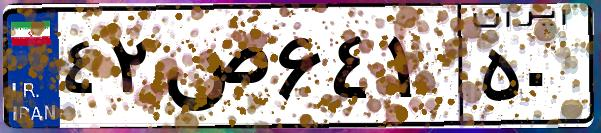0: (525, 38, 570, 115)
1: (385, 28, 445, 110)
2: (110, 28, 158, 98)
4: (330, 28, 385, 110), (57, 26, 110, 100)
5: (475, 38, 525, 113)
6: (270, 28, 330, 110)
ص: (158, 20, 270, 120)
